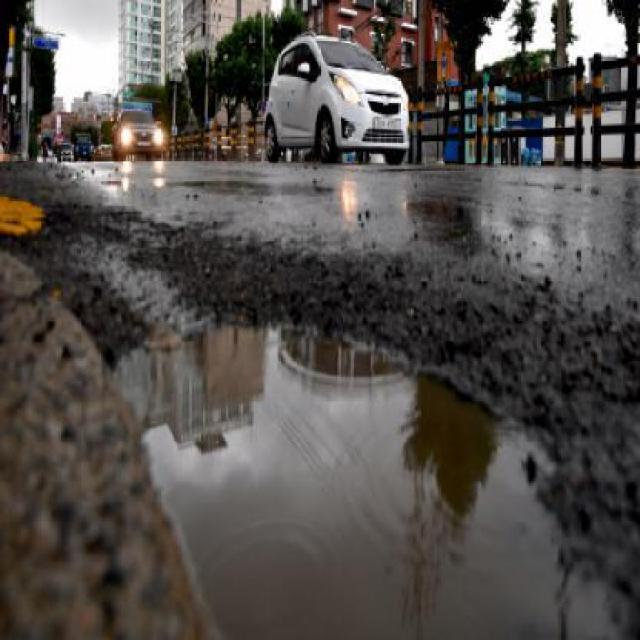Pothole: (86, 290, 640, 638)
